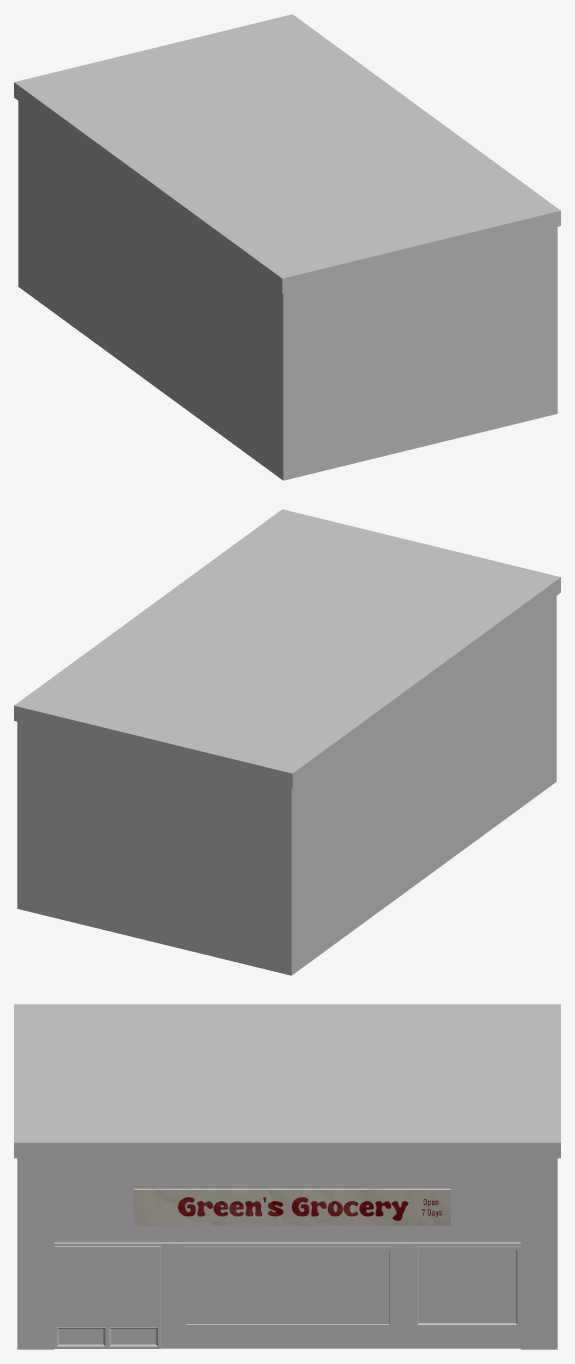
File: grocery_store.fbx
The picture shows the model from 3 angles, top to bottom: view 1: azimuth 30°, elevation 25°; view 2: azimuth 150°, elevation 25°; view 3: azimuth 270°, elevation 25°; orthographic projection.
Parts seen in each view (by area): view 1: Building; view 2: Building; view 3: Building, windows, sign, DOORS.
Boxes of the visible parts, <box> form: Building: <box>14,14,560,480</box>; Building: <box>14,509,560,975</box>; Building: <box>14,1004,560,1349</box>; windows: <box>182,1246,520,1327</box>; sign: <box>134,1188,451,1225</box>; DOORS: <box>54,1246,160,1348</box>.
Size of the model in its own units: 2086 by 1459 by 3481.
